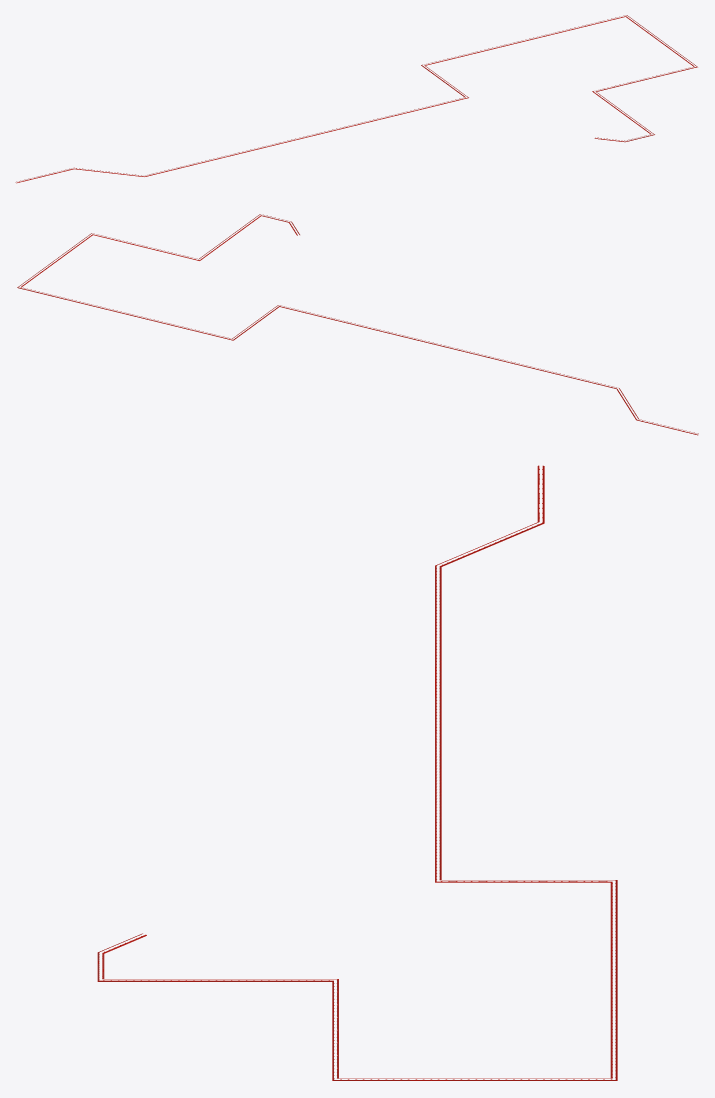
The model's file is UnlockPipe_4.fbx.
The picture shows the model from 3 angles, top to bottom: view 1: azimuth 30°, elevation 25°; view 2: azimuth 150°, elevation 25°; view 3: azimuth 270°, elevation 25°; orthographic projection. The views are drawn at different scales.
Parts seen in each view (by area): view 1: extrudedSurface1; view 2: extrudedSurface1; view 3: extrudedSurface1.
Boxes of the visible parts, <box> form: extrudedSurface1: <box>15,15,697,183</box>; extrudedSurface1: <box>17,214,698,435</box>; extrudedSurface1: <box>97,465,617,1080</box>.
Bounding box in the file's own units: 99.5 × 0.1482 × 36.
1 material, 1 textured.
